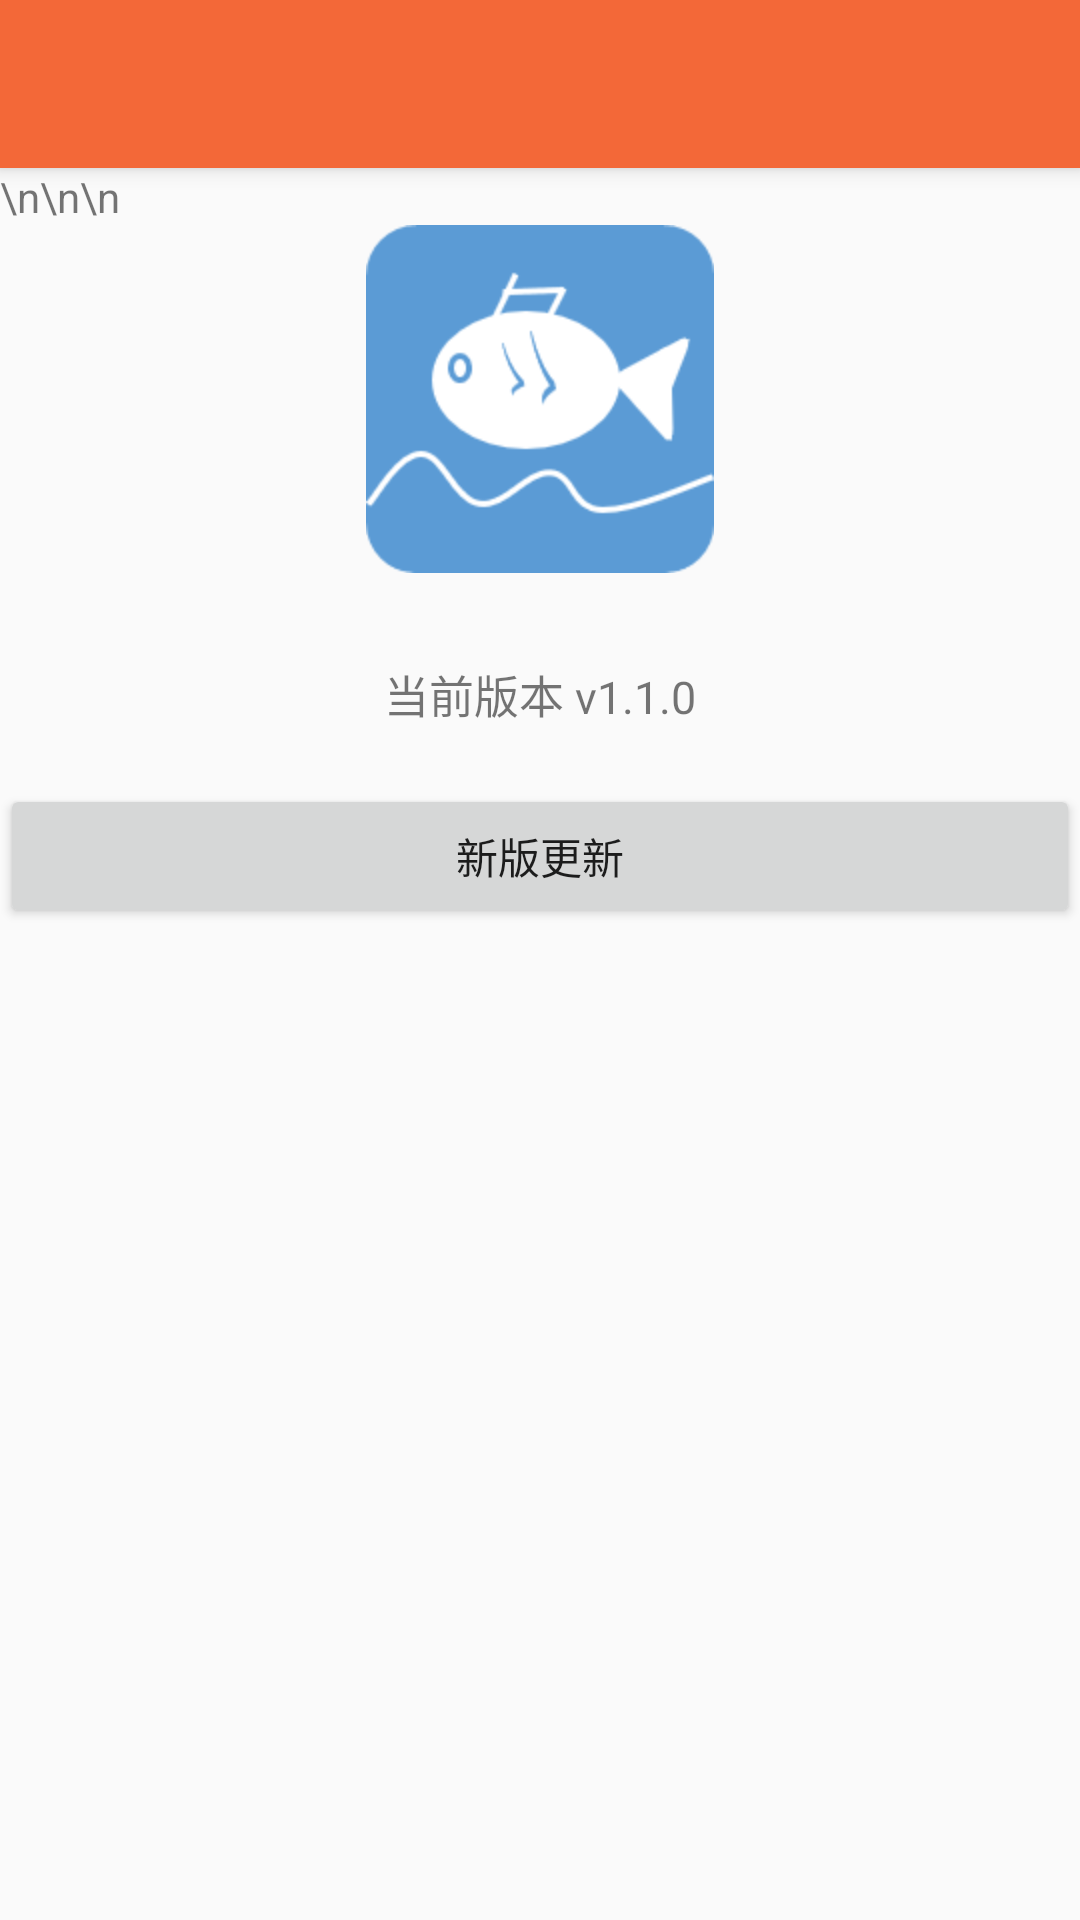

Locate icon controls on the screen. Image size 1080*1920, boxes as (left=x1, top=y1, right=x2, bottom=y2).
laucher: (left=366, top=225, right=714, bottom=573)
